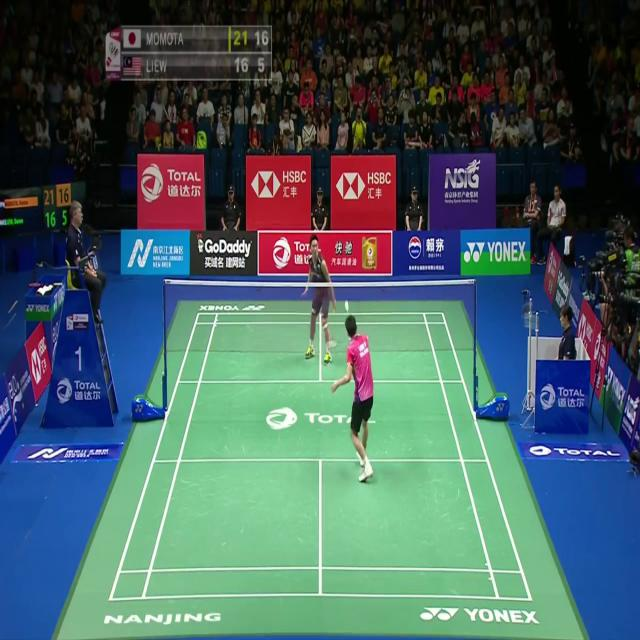Shuttlecock: (343, 300, 349, 312)
